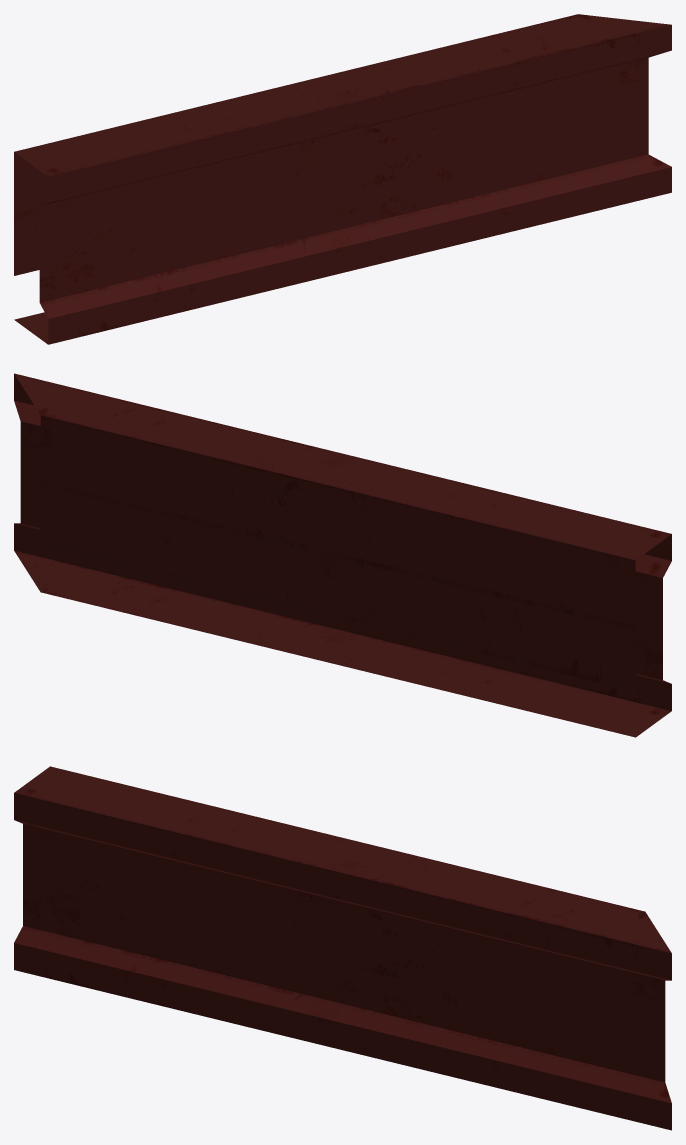
Rendered from Cornice_Small_Metal_R.gltf.
3 views of the same model, one above another, from view 1: azimuth 30°, elevation 25°; view 2: azimuth 150°, elevation 25°; view 3: azimuth 330°, elevation 25° (orthographic). The views are drawn at different scales.
Parts seen in each view (by area): view 1: Cornice_Small_Metal_R; view 2: Cornice_Small_Metal_R; view 3: Cornice_Small_Metal_R.
Boxes of the visible parts, left/top/right/bottom form: Cornice_Small_Metal_R: left=14, top=14, right=671, bottom=344; Cornice_Small_Metal_R: left=14, top=373, right=671, bottom=737; Cornice_Small_Metal_R: left=14, top=766, right=671, bottom=1130.
Size of the model in its own units: 2.1 by 0.5403 by 0.2.
1 material, 1 textured.
